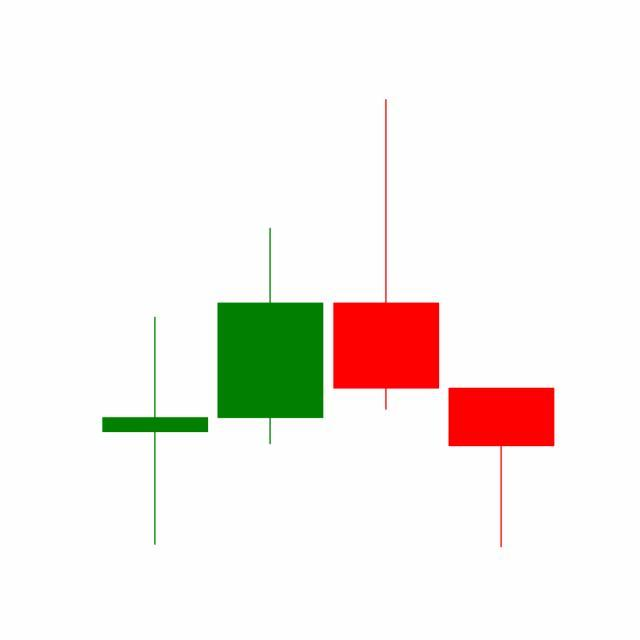Hammer: (444, 386, 560, 550)
